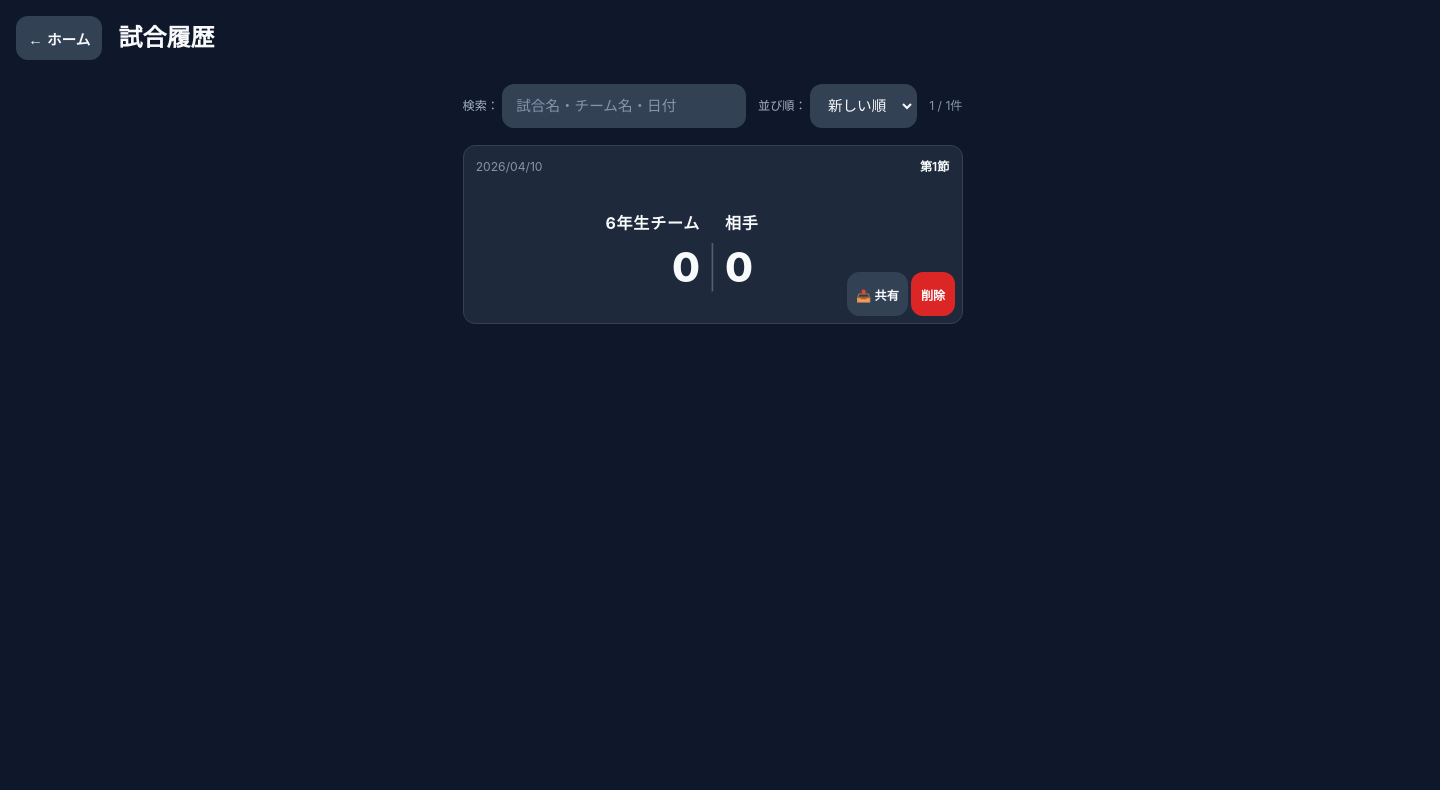
Test: 履歴から試合情報を編集する › 同じ保存で終了時間も直しても、試合情報の入力が残る
The image size is (1440, 790).
Click the button with class "history-card-main" at (509, 166), box [476,158,949,311]
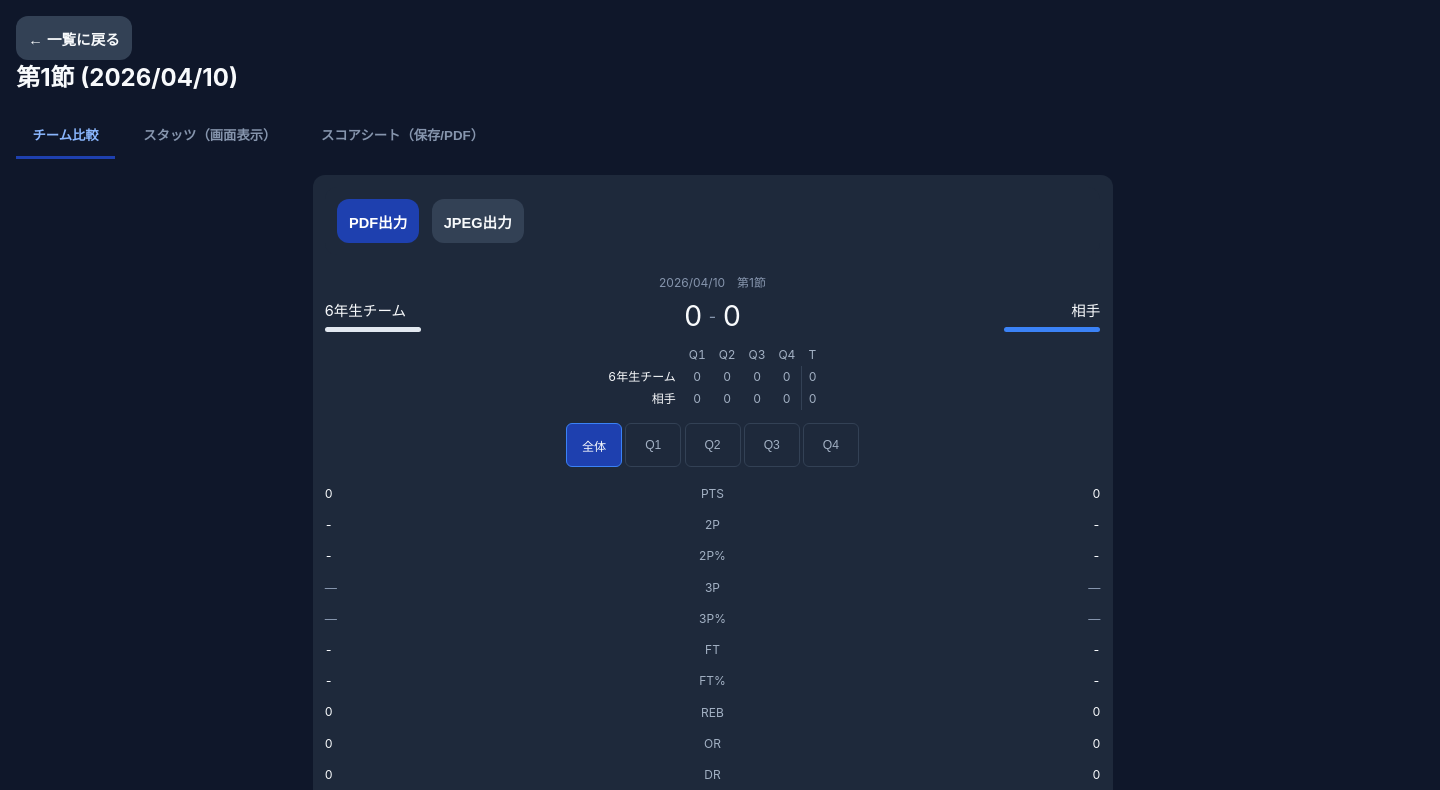
Click the button "スコアシート（保存/PDF）" at (403, 136), box [305,112,500,159]
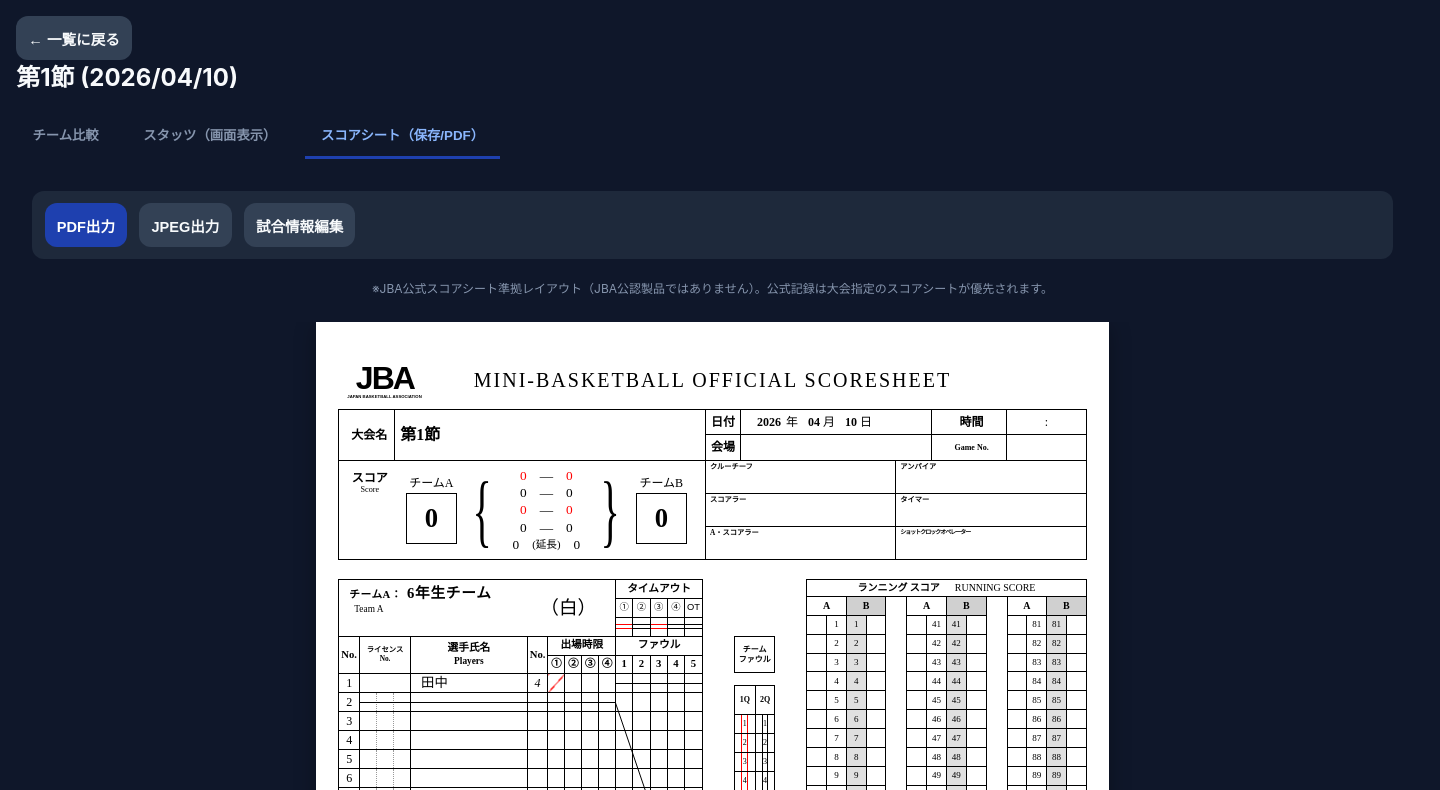
Click the button "試合情報編集" at (300, 225), box [244,203,356,247]
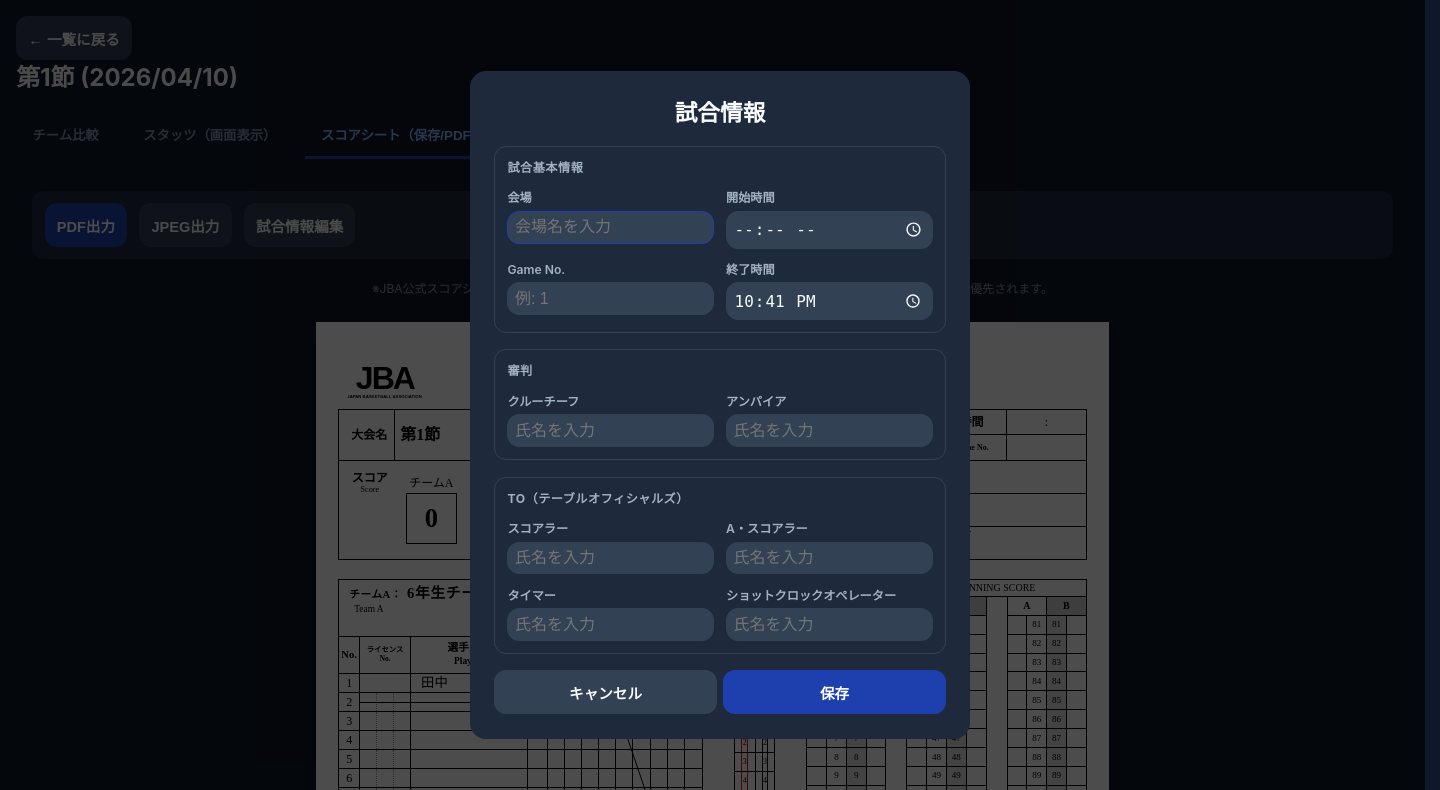
Type "中央体育館" into the field labelled "会場" at (611, 227), box [507,211,714,244]
Replace the text in the time field labelled "終了時間" with "11:45" at (829, 301), box [726,282,933,320]
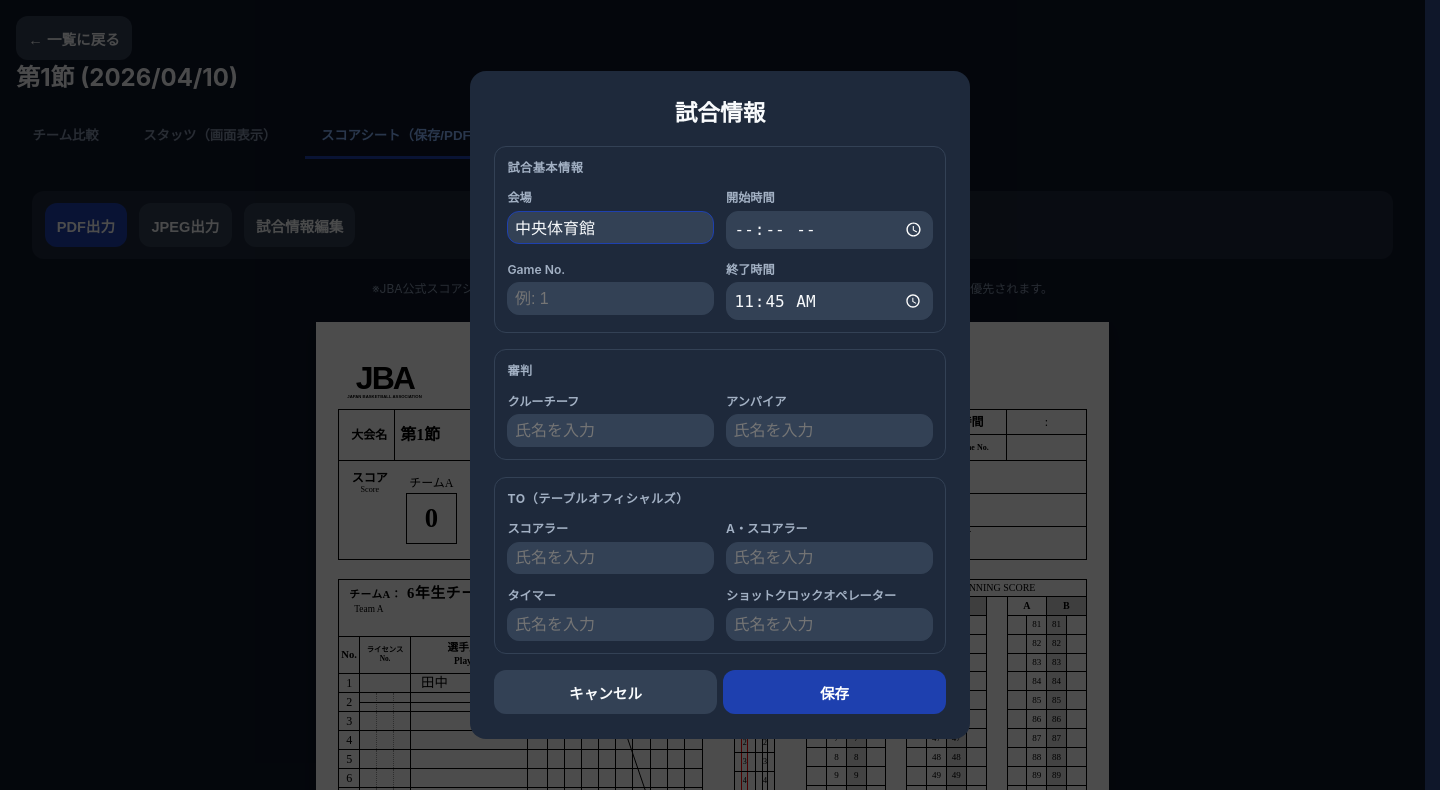
Click the button "保存" at (834, 692), box [723,670,946,714]
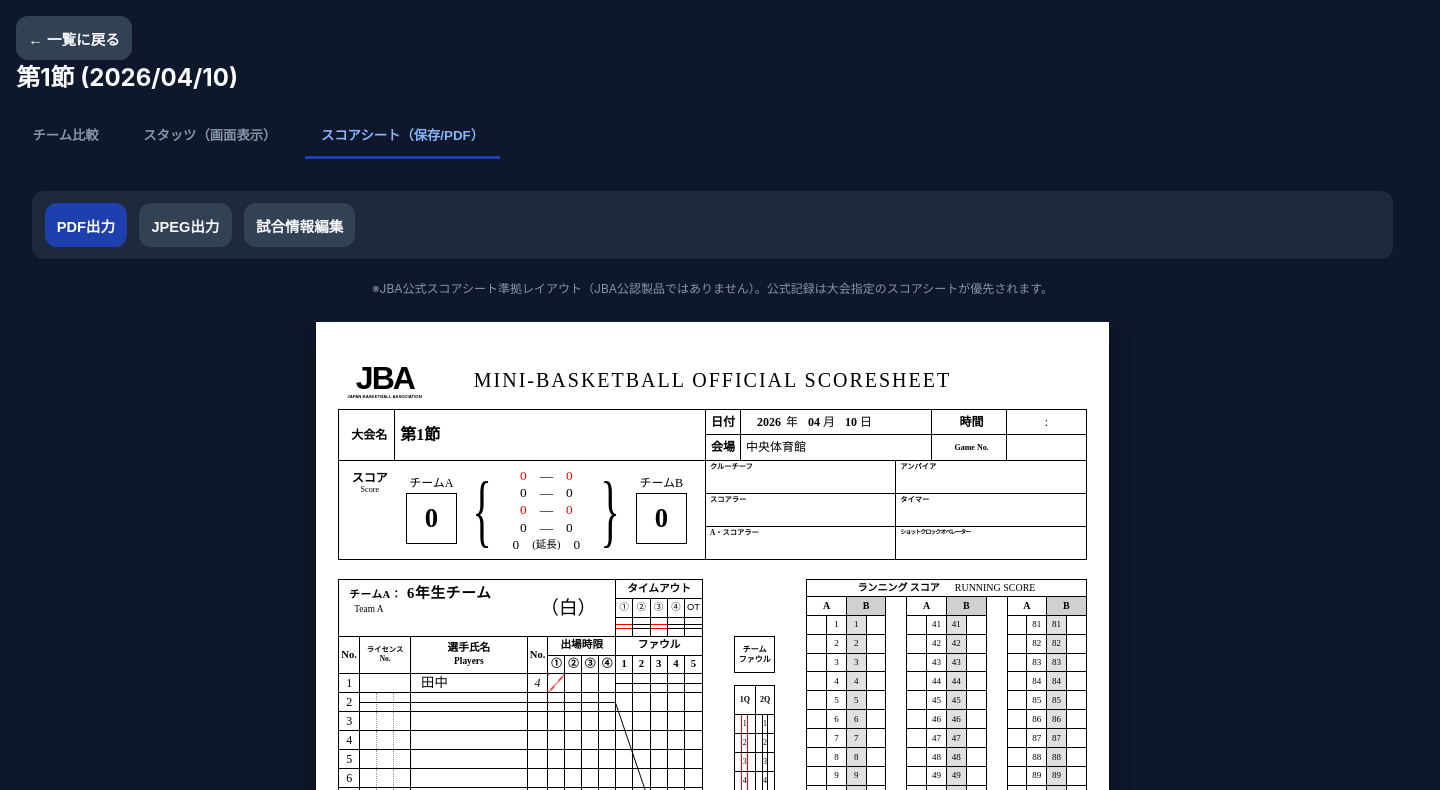
Click the button "試合情報編集" at (300, 225), box [244,203,356,247]
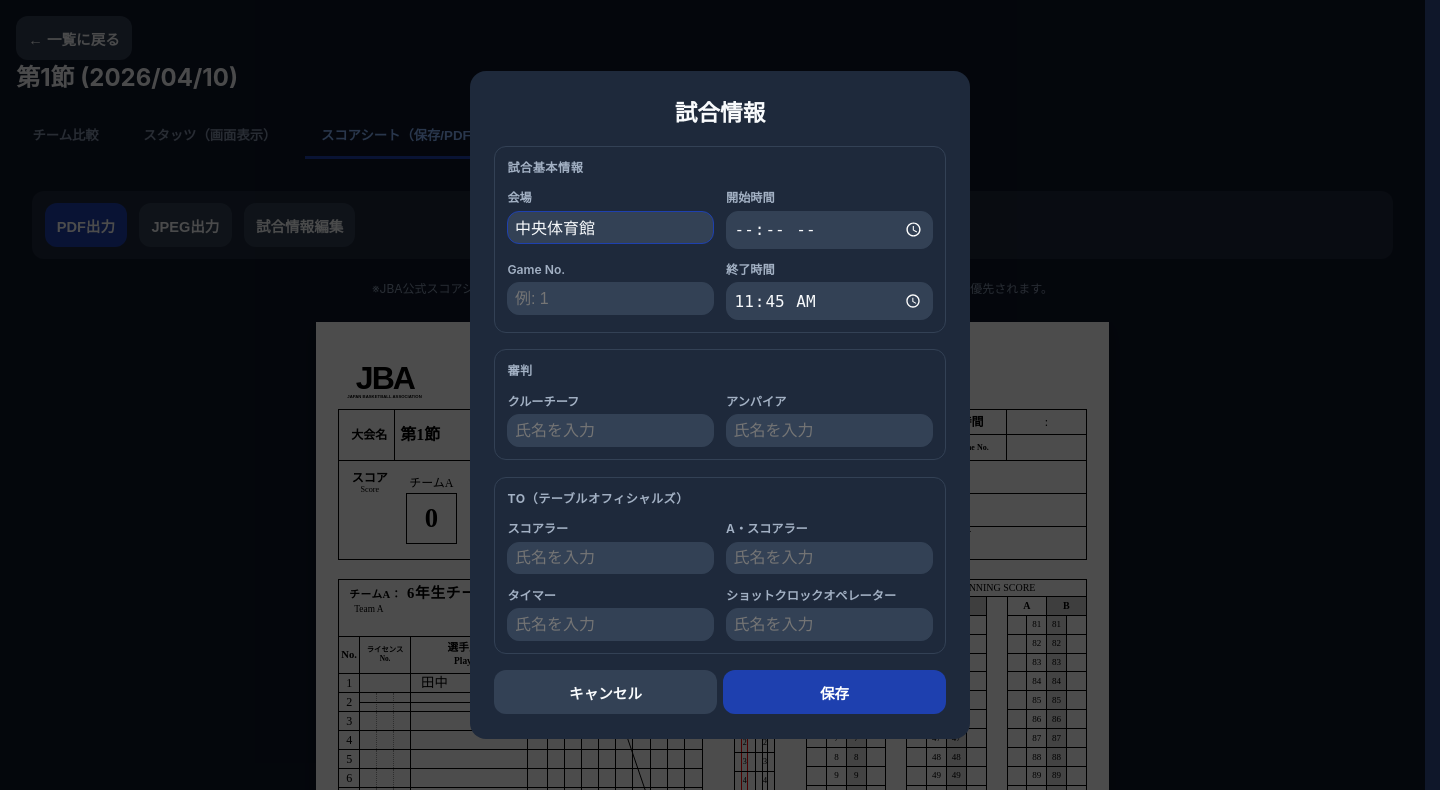
Expected: the field labelled "会場" holds "中央体育館", [507,211,714,244]
Expected: the time field labelled "終了時間" holds "11:45", [726,282,933,320]
